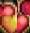heart: (0, 0, 17, 15), (17, 15, 30, 33), (17, 0, 30, 15)
